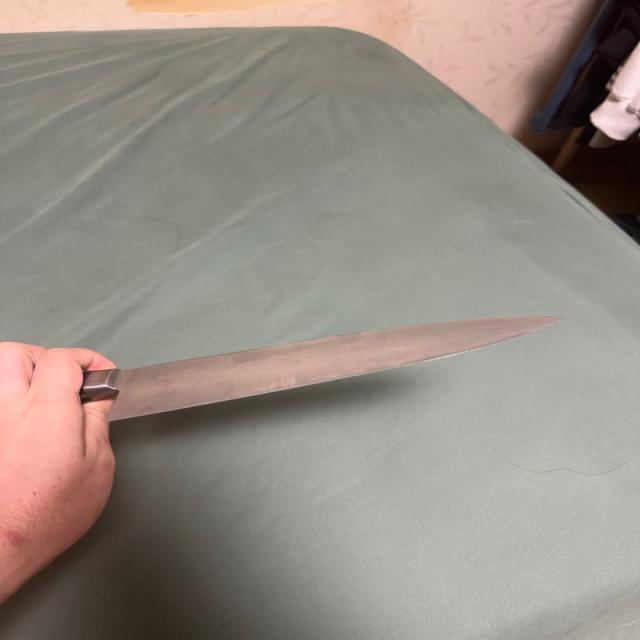knife: (80, 313, 560, 427)
